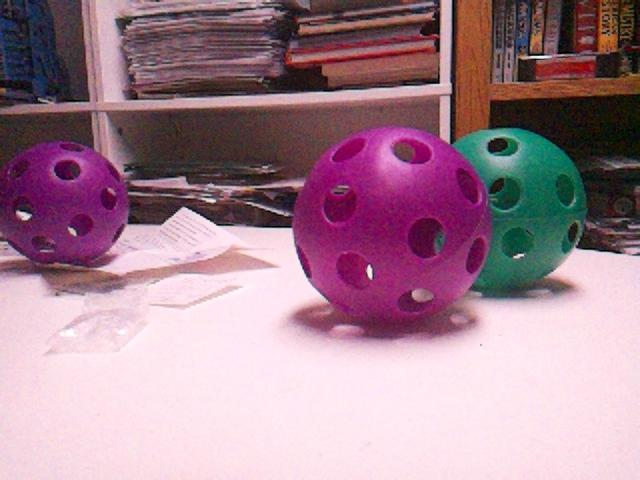Green: (447, 129, 586, 292)
Purple: (291, 130, 491, 327), (0, 141, 128, 266)
